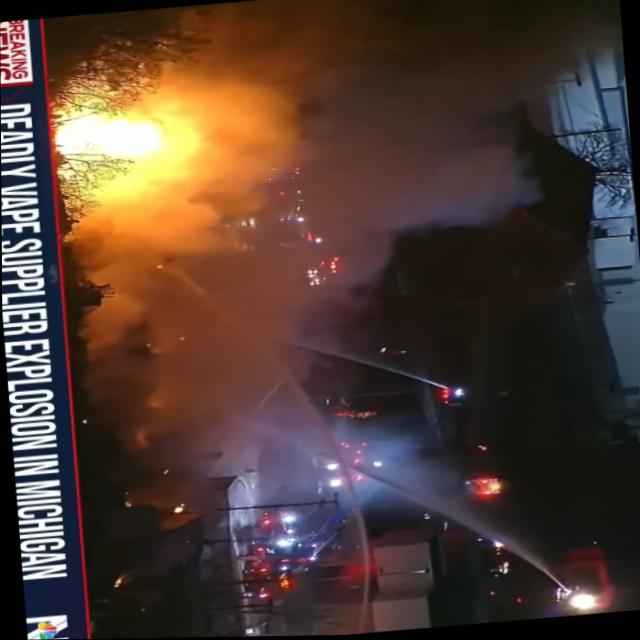Fire: (47, 0, 332, 332)
